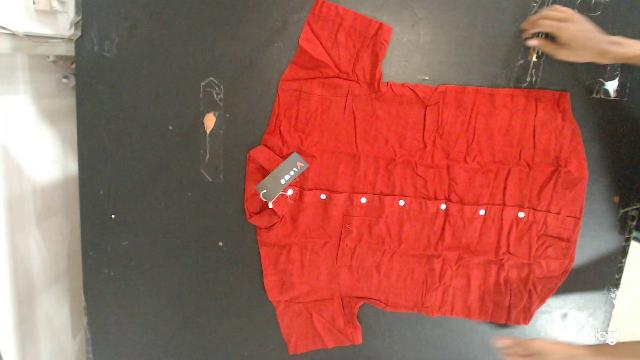new-garment: (244, 0, 588, 354)
